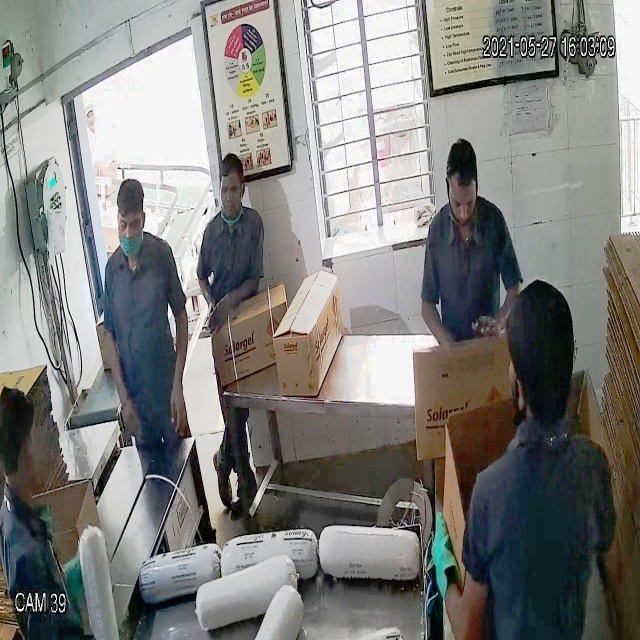Sin_gafas: (444, 188, 482, 218), (113, 210, 148, 238), (216, 180, 247, 204)
